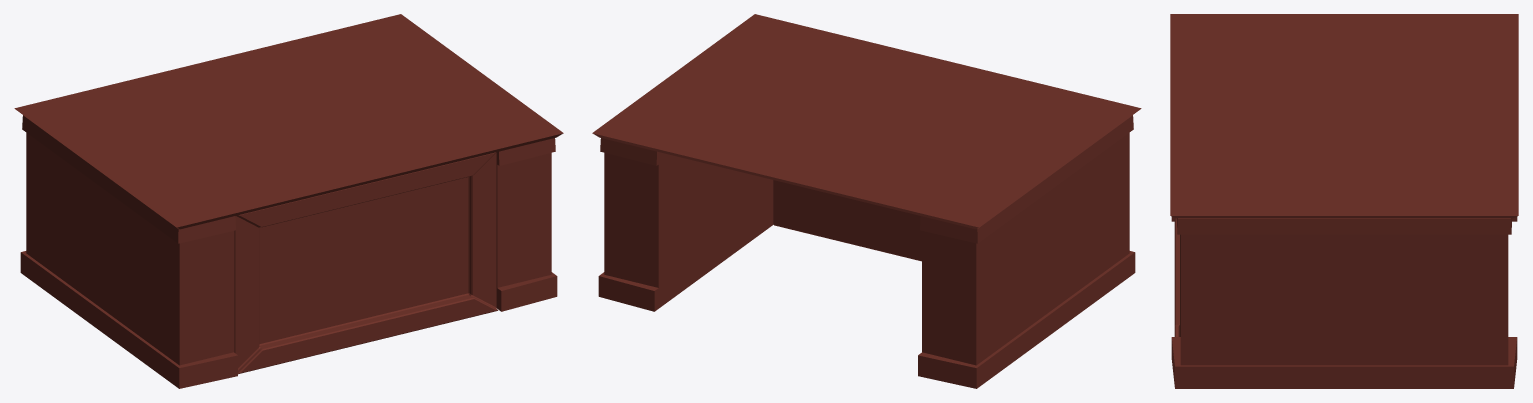
File: Mesa Presidencial.fbx
3 renders of one model, left to right at view 1: azimuth 30°, elevation 25°; view 2: azimuth 150°, elevation 25°; view 3: azimuth 270°, elevation 25°, orthographic. The views are drawn at different scales.
Visible parts, largest first — view 1: Tampa.001, Pernas Laterais, Perna Frente; view 2: Tampa.001, Pernas Laterais, Perna Frente; view 3: Tampa.001, Pernas Laterais, Perna Frente.
Part boxes in pixels (left/top/right/bottom): Tampa.001: left=14, top=14, right=563, bottom=229; Pernas Laterais: left=20, top=115, right=557, bottom=388; Perna Frente: left=234, top=152, right=498, bottom=374; Tampa.001: left=592, top=14, right=1141, bottom=229; Pernas Laterais: left=598, top=115, right=1135, bottom=388; Perna Frente: left=773, top=180, right=921, bottom=261; Tampa.001: left=1170, top=14, right=1518, bottom=218; Pernas Laterais: left=1171, top=217, right=1517, bottom=388; Perna Frente: left=1174, top=218, right=1180, bottom=336.
Bounding box in the file's own units: 199 × 80.77 × 145.
